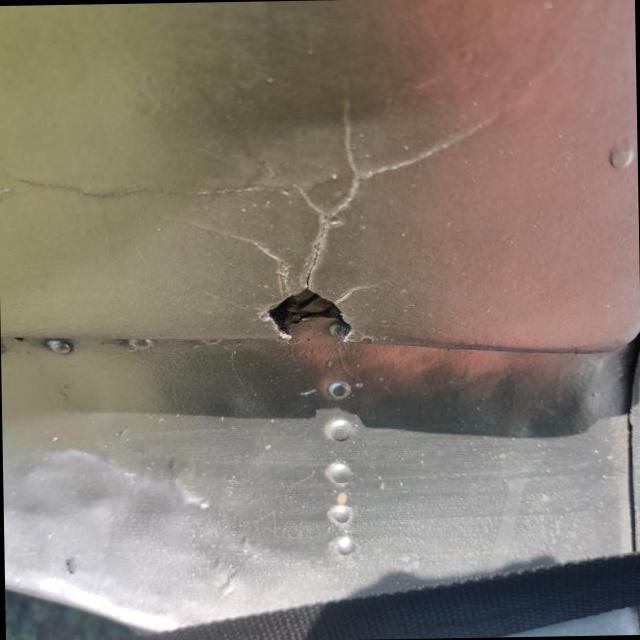Rupture: (196, 74, 491, 358)
